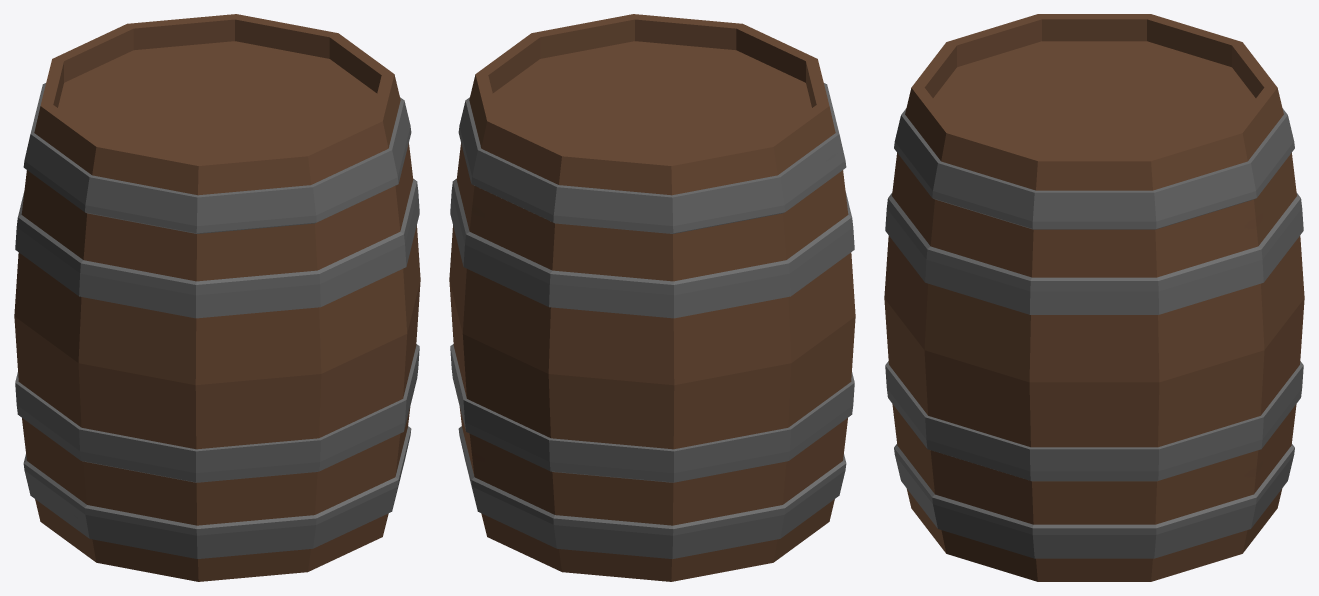
File: Barrel (1).fbx
3 renders of one model, left to right at view 1: azimuth 30°, elevation 25°; view 2: azimuth 150°, elevation 25°; view 3: azimuth 270°, elevation 25°, orthographic.
Parts seen in each view (by area): view 1: Cylinder.002; view 2: Cylinder.002; view 3: Cylinder.002.
Part boxes in pixels (x1,y1,x2,y2): Cylinder.002: (14,14,420,581); Cylinder.002: (449,14,855,581); Cylinder.002: (884,14,1304,581).
Size of the model in its own units: 80.65 by 93.67 by 84.8.
1 material, 1 textured.
